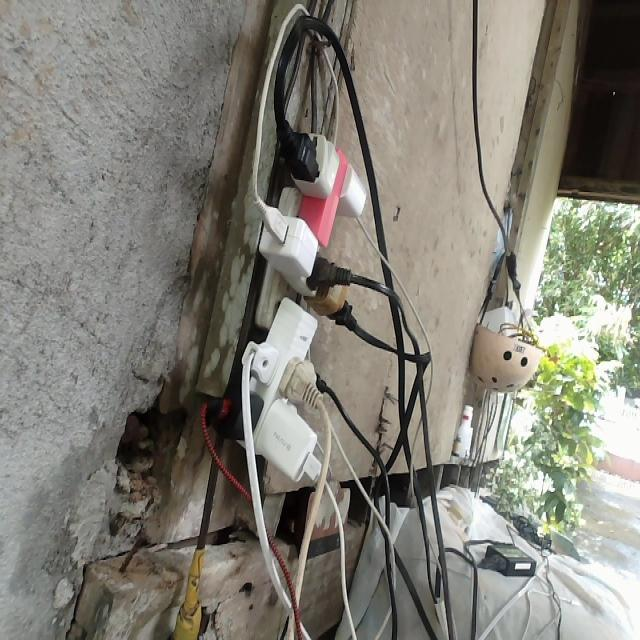-: (216, 124, 365, 483)
